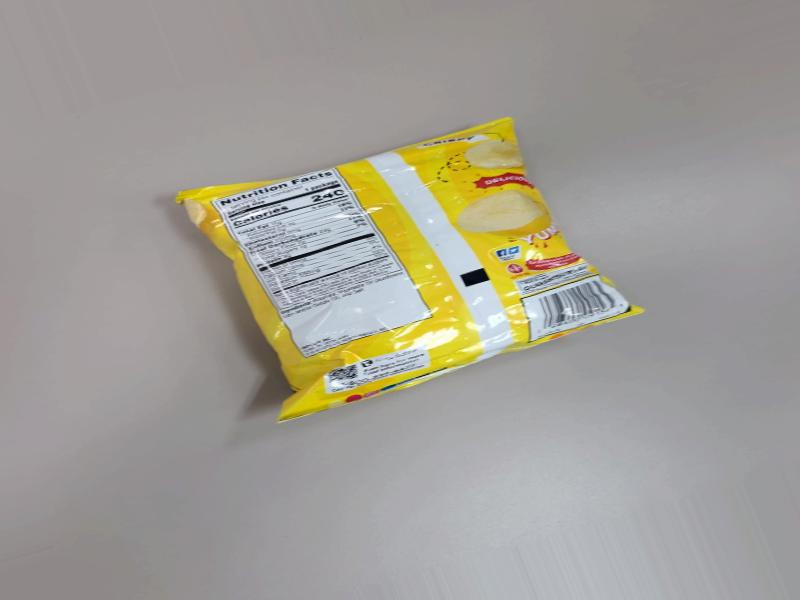lays: (181, 104, 643, 437)
